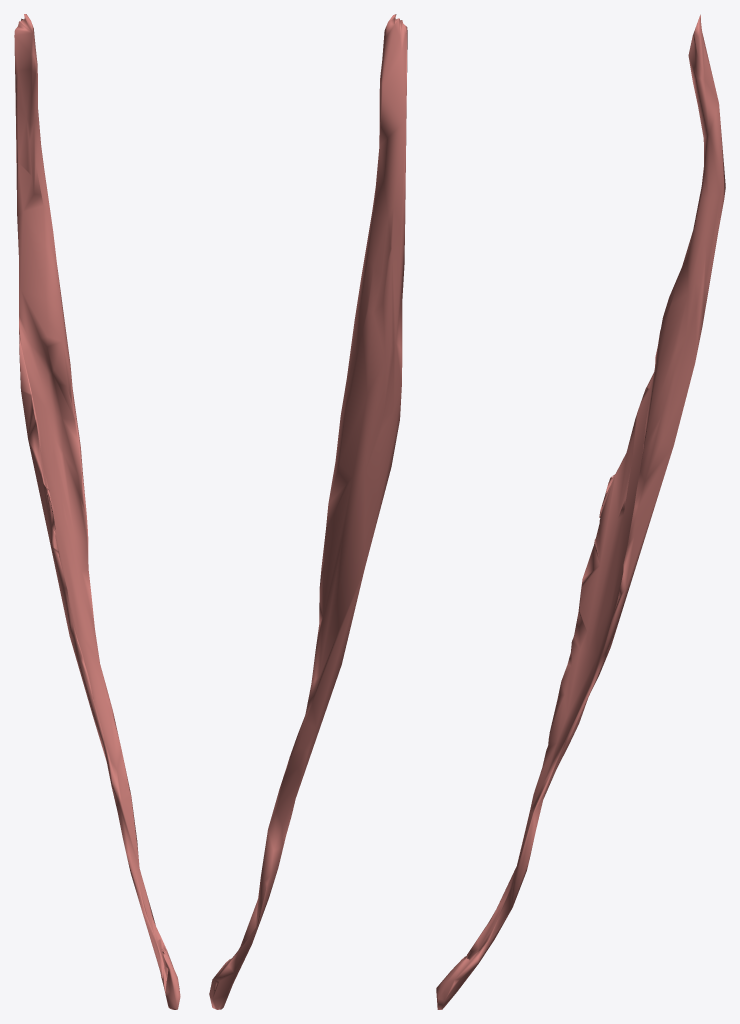
3 renders of one model, left to right at view 1: azimuth 30°, elevation 25°; view 2: azimuth 210°, elevation 25°; view 3: azimuth 270°, elevation 25°, orthographic. The views are drawn at different scales.
Parts seen in each view (by area): view 1: ZA_8816e8e0bbcf5bd4; view 2: ZA_8816e8e0bbcf5bd4; view 3: ZA_8816e8e0bbcf5bd4.
Boxes of the visible parts, x1,y1,x2,y2 form: ZA_8816e8e0bbcf5bd4: (14, 14, 180, 1009); ZA_8816e8e0bbcf5bd4: (209, 14, 407, 1009); ZA_8816e8e0bbcf5bd4: (436, 14, 725, 1009).
Bounding box in the file's own units: 0.0191 × 0.2889 × 0.0774.
